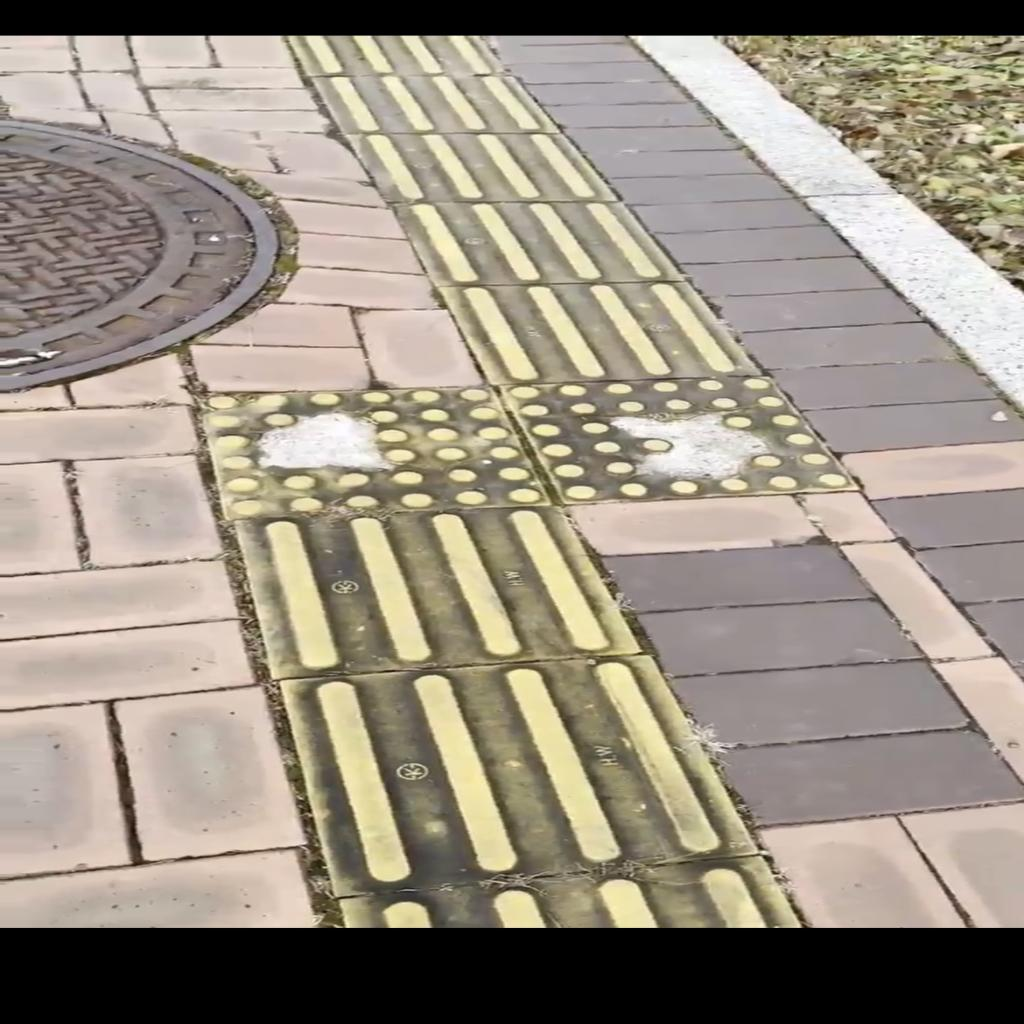Stop block broken: (499, 366, 858, 509), (198, 378, 549, 521)
Straight block normal: (280, 634, 754, 898), (234, 494, 638, 678), (441, 274, 760, 385), (395, 196, 682, 288)
